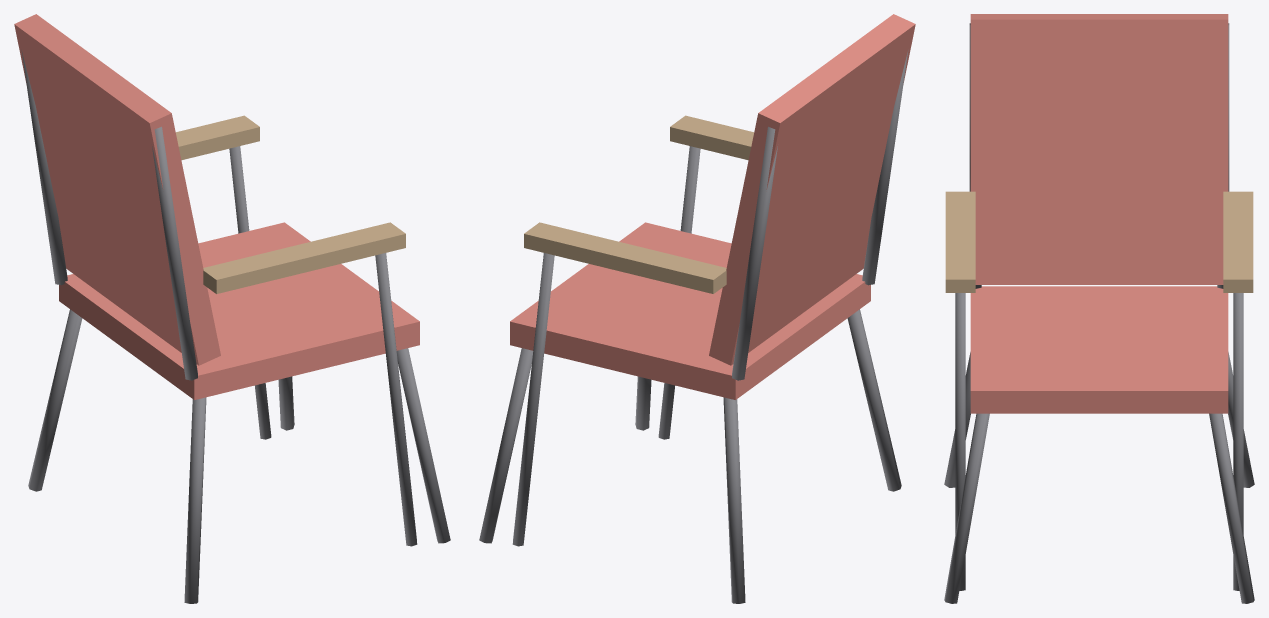
Rendered from camp_chair_red.glb.
3 views of the same model, side by side, from view 1: azimuth 30°, elevation 25°; view 2: azimuth 150°, elevation 25°; view 3: azimuth 270°, elevation 25° (orthographic). The views are drawn at different scales.
Parts seen in each view (by area): view 1: camp_chair_red; view 2: camp_chair_red; view 3: camp_chair_red.
Boxes of the visible parts, x1=… form: camp_chair_red: x1=14, y1=14, x2=450, y2=603; camp_chair_red: x1=479, y1=14, x2=915, y2=603; camp_chair_red: x1=944, y1=14, x2=1254, y2=603.
Size of the model in its own units: 0.6428 by 1.03 by 0.6262.
